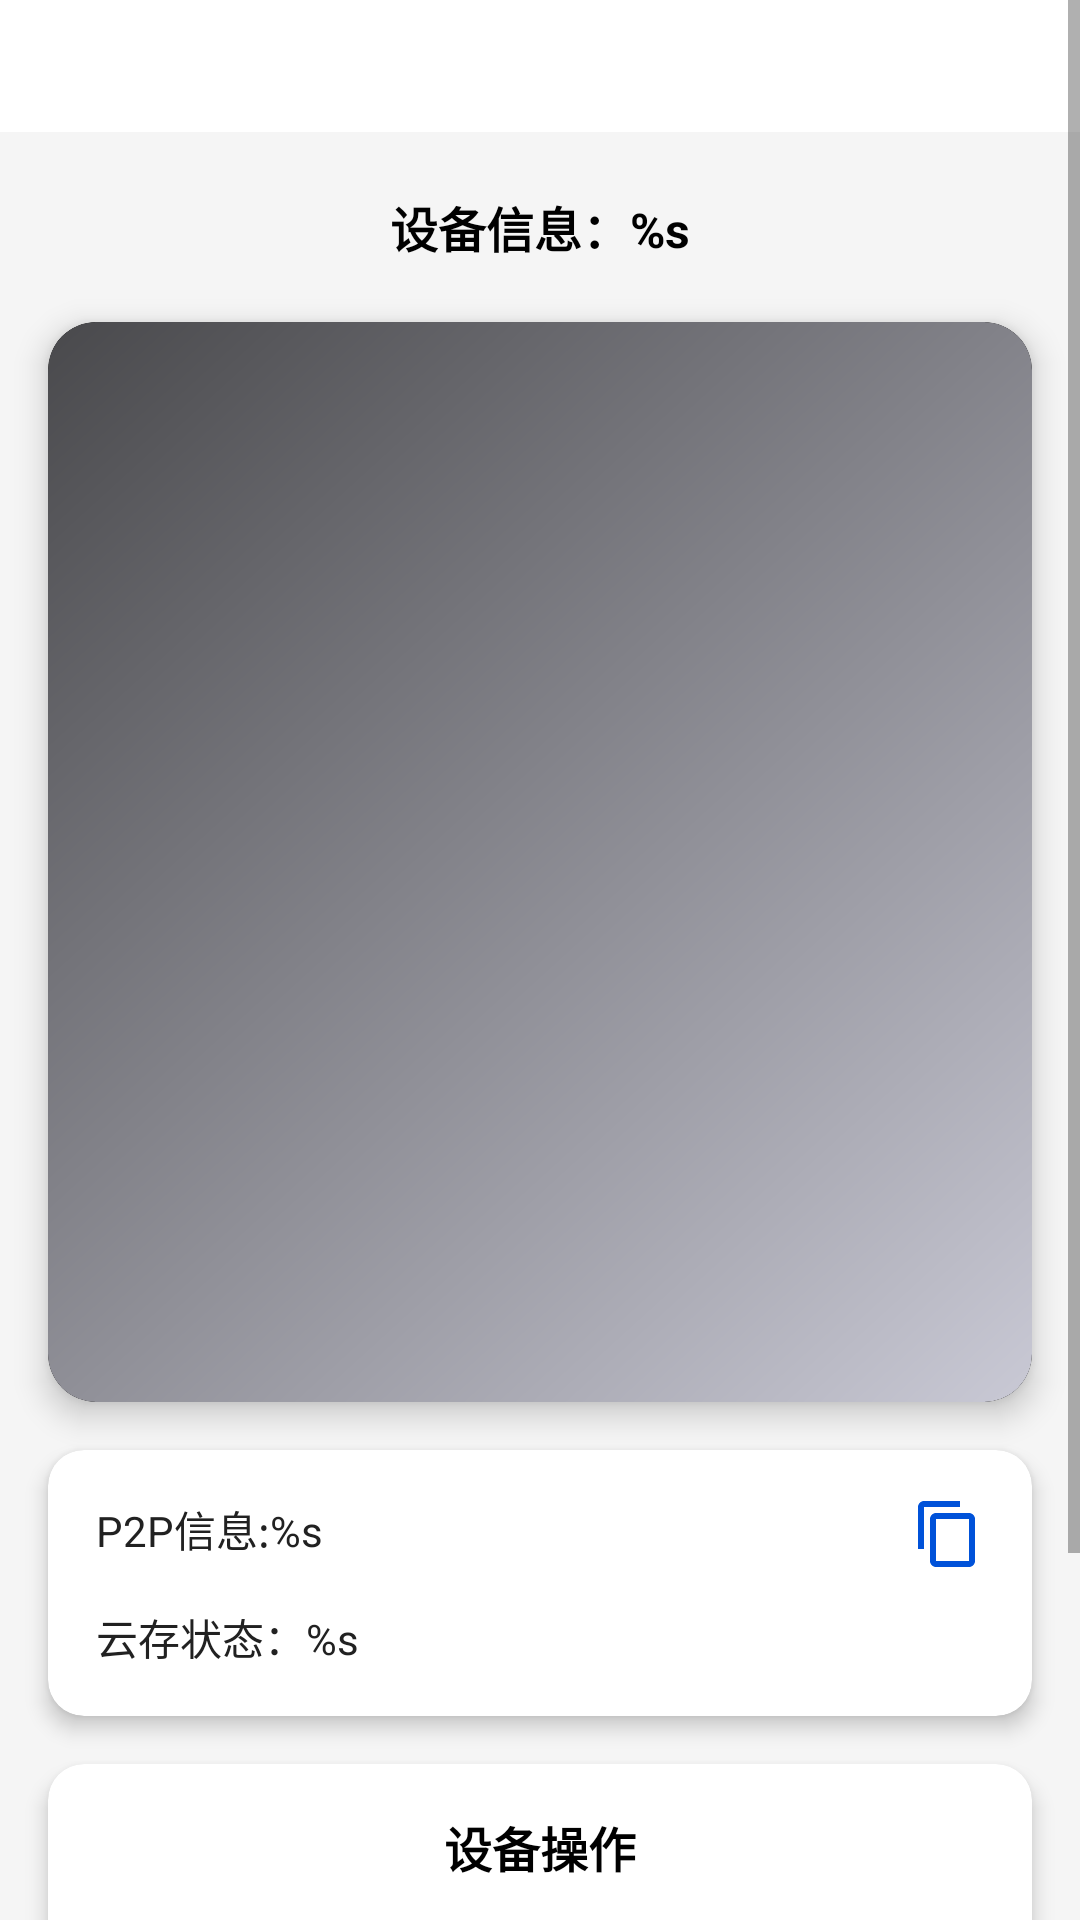

Point at icon controls on the screen. Image size 1080 × 1920, points as (x,y).
复制: (946,1534)
